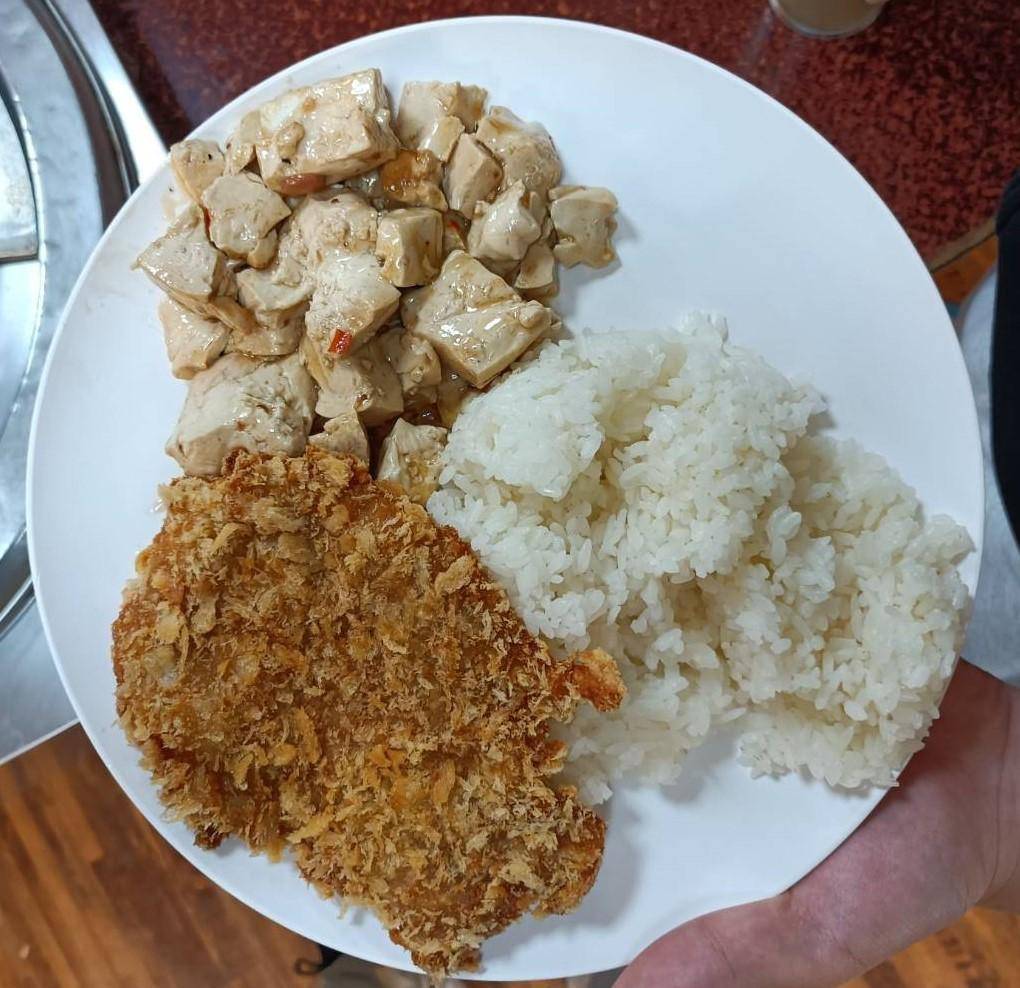big fried chicken leg: (18, 8, 999, 988)
big herbal chicken leg: (434, 312, 975, 808)
braised fish fillet: (137, 83, 623, 470)
braised pork: (98, 454, 628, 973)
